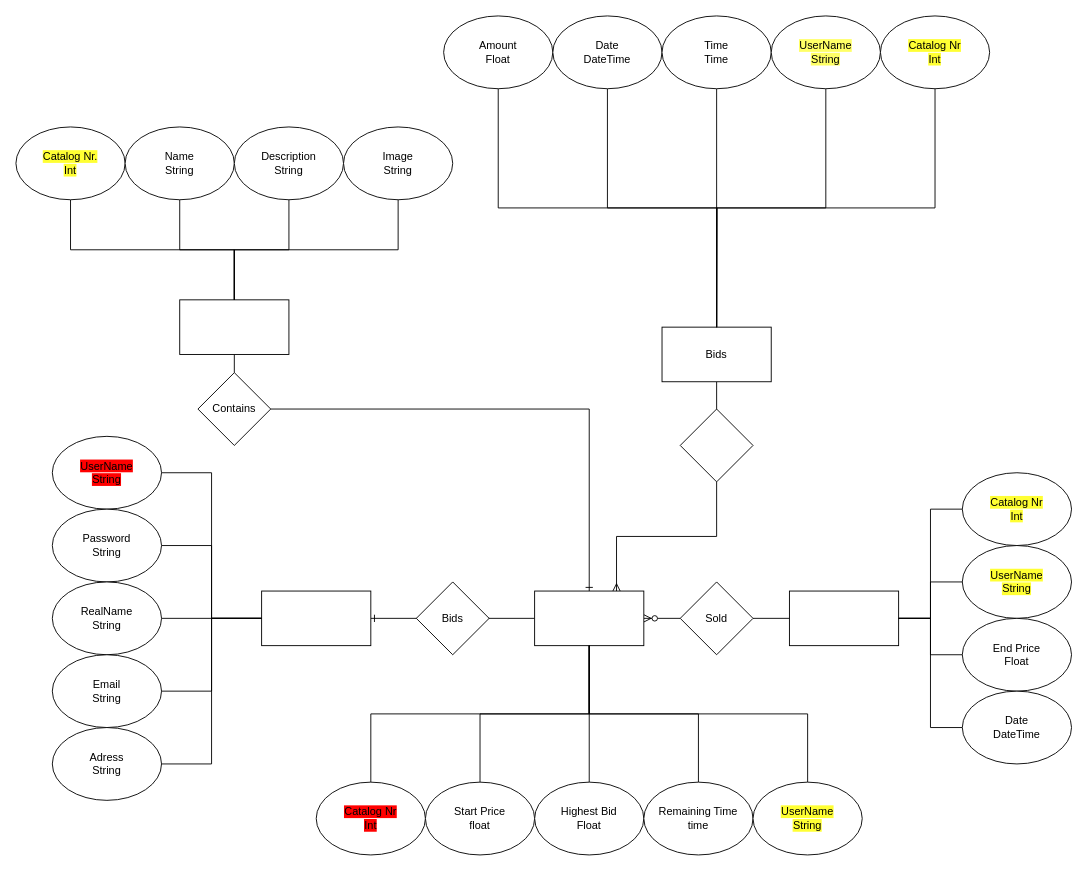
Some shapes in this 1087 by 871 pixel diagram are drawn without their labels. Here are the shapes that lost their labels. From the top down, the centre of each, then its label:
At [234,326]: "Products".
At [716,445]: "New highest bid".
At [316,618]: "Customer".
At [589,618]: "Sets".
At [844,618]: "Transactions".
